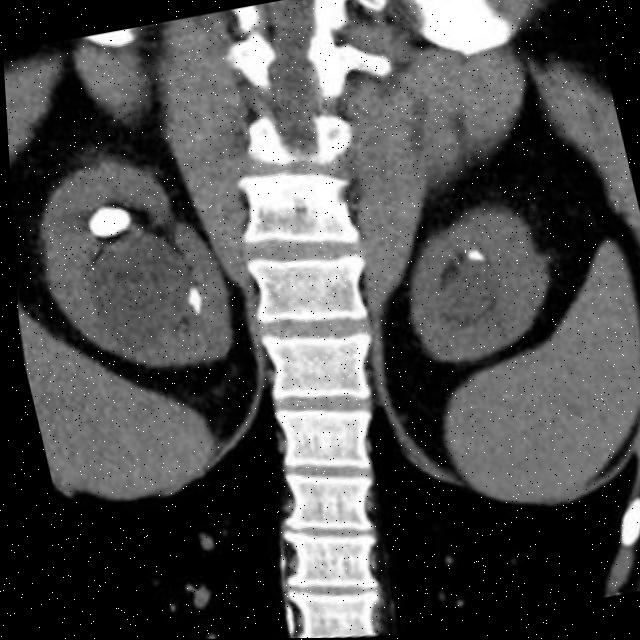Tas_Var: (64, 188, 148, 260), (455, 240, 489, 276), (174, 284, 206, 320)
